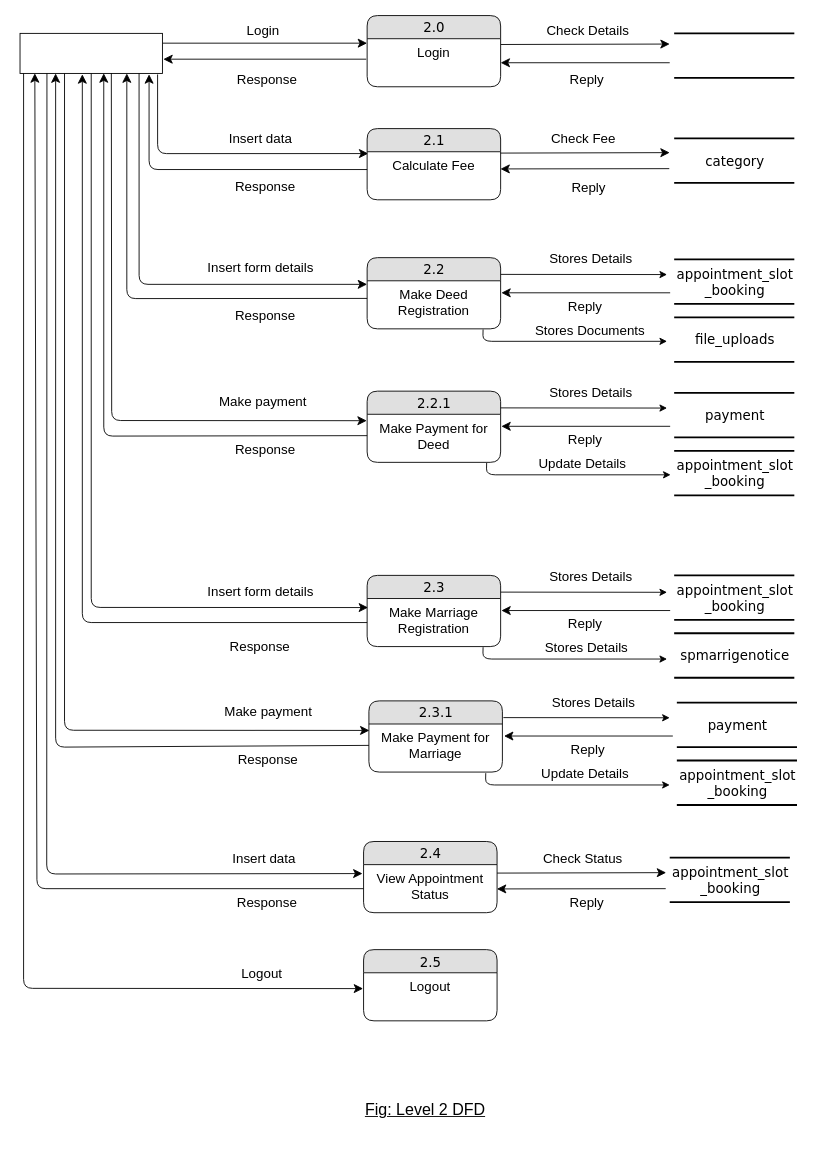
The diagram is 813 pixels wide and 1150 high, and some of its shapes have lost their labels. The shapes that lost their labels are listed below. From the top down, each one's centre as x and y in pixels, then its label:
the point at 90,52: User
the point at 734,55: Firebase
